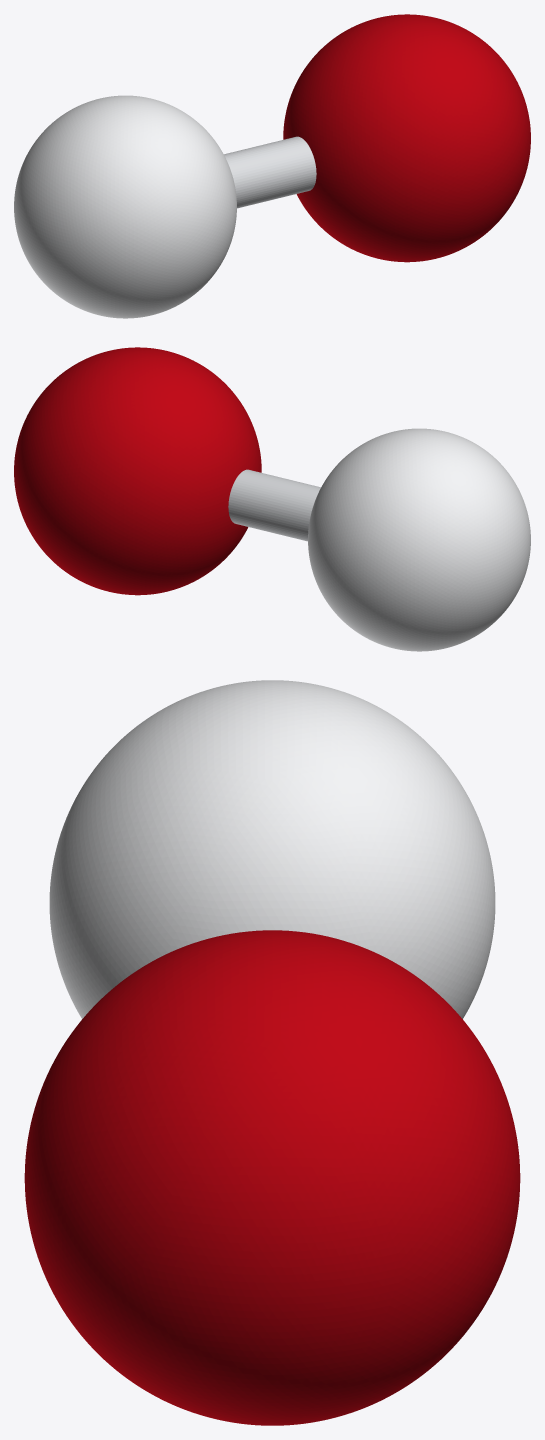
The model's file is hydrogen_bromide.glb.
The picture shows the model from 3 angles, top to bottom: view 1: azimuth 30°, elevation 25°; view 2: azimuth 150°, elevation 25°; view 3: azimuth 270°, elevation 25°; orthographic projection. The views are drawn at different scales.
Parts seen in each view (by area): view 1: Bromine_Br, Hydrogen_H, H-Br_Bond; view 2: Bromine_Br, Hydrogen_H, H-Br_Bond; view 3: Bromine_Br, Hydrogen_H.
Boxes of the visible parts, left/top/right/bottom form: Bromine_Br: left=283, top=14, right=530, bottom=262; Hydrogen_H: left=14, top=95, right=236, bottom=318; H-Br_Bond: left=224, top=136, right=316, bottom=208; Bromine_Br: left=14, top=347, right=261, bottom=595; Hydrogen_H: left=308, top=428, right=530, bottom=651; H-Br_Bond: left=228, top=469, right=320, bottom=541; Bromine_Br: left=24, top=930, right=520, bottom=1425; Hydrogen_H: left=49, top=680, right=495, bottom=1018.
Bounding box in the file's own units: 2.53 × 1.12 × 1.12.
